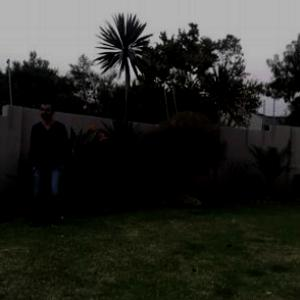follow: (28, 94, 68, 233)
